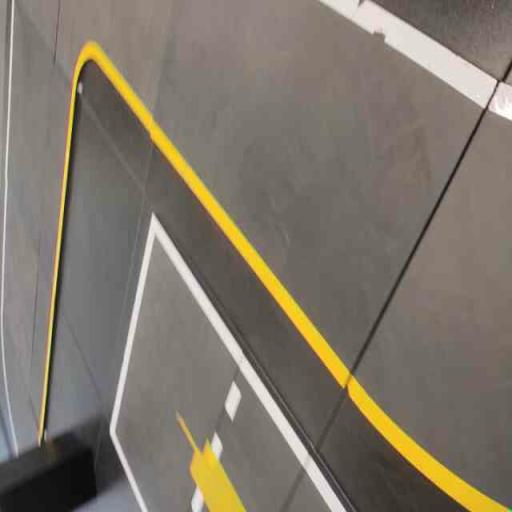right: (346, 16, 512, 511)
